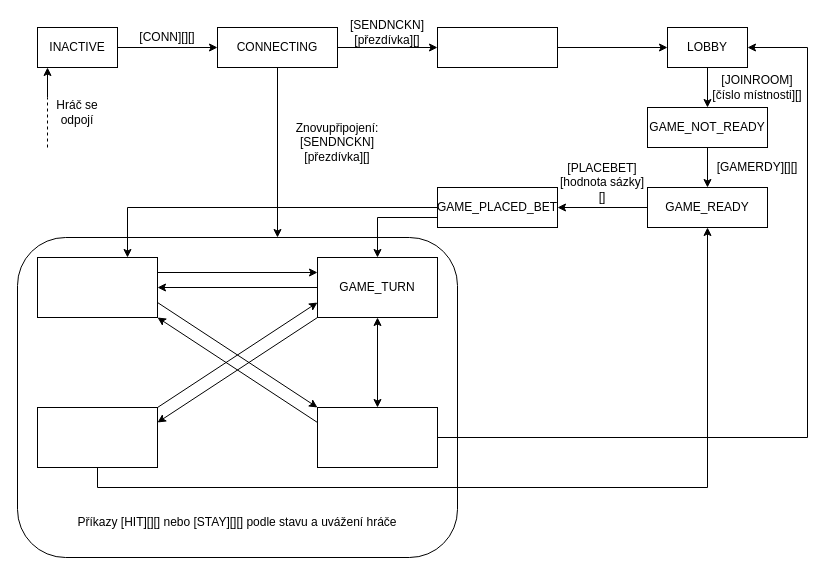
Some shapes in this 833 by 575 pixel diagram are drawn without their labels. The shapes that lost their labels are listed below. From the top down, each one's centre as x and y in pixels, then its label:
(x=497, y=47): CONNECTED
(x=97, y=287): GAME_WAITING
(x=97, y=437): GAME_WAITING NEW_ROUND
(x=377, y=437): GAME_WAITING END
